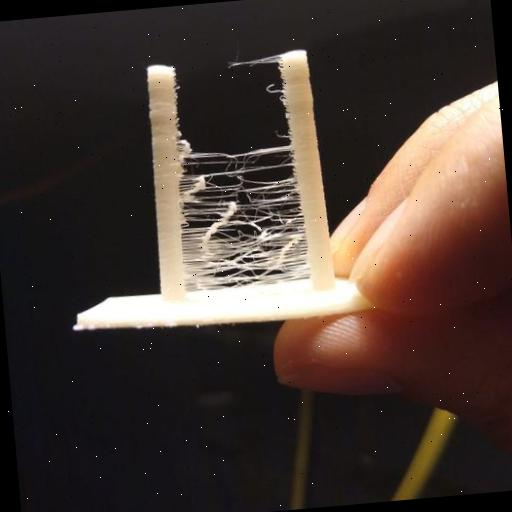stringing: (172, 144, 312, 292)
